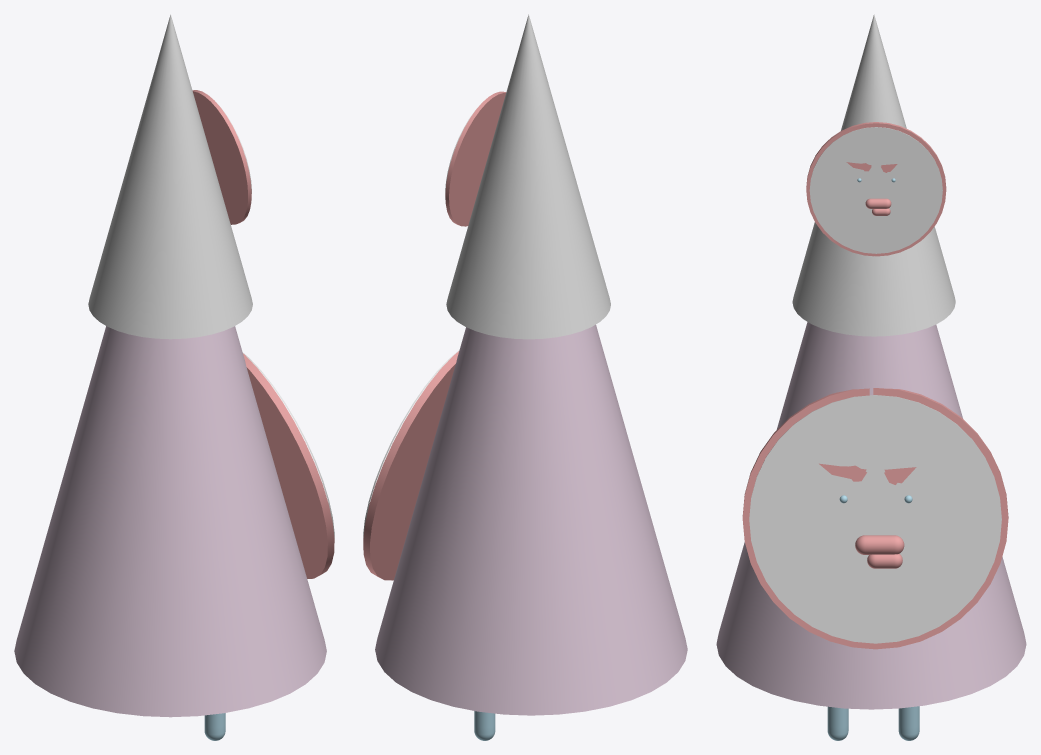
Rendered from avatar4.glb.
3 renders of one model, left to right at view 1: azimuth 30°, elevation 25°; view 2: azimuth 150°, elevation 25°; view 3: azimuth 270°, elevation 25°, orthographic.
Visible parts, largest first — view 1: Cone, head, Cylinder, leftleg; view 2: Cone, head, Cylinder, rightleg; view 3: Cylinder_1, Cone, head, Cylinder, Capsule_1, rightleg, leftleg.
Boxes of the visible parts, left/top/right/bottom form: Cone: left=14, top=326, right=326, bottom=717; head: left=88, top=14, right=252, bottom=339; Cylinder: left=243, top=353, right=334, bottom=578; leftleg: left=204, top=713, right=225, bottom=740; Cone: left=375, top=324, right=687, bottom=715; head: left=445, top=14, right=610, bottom=339; Cylinder: left=363, top=351, right=458, bottom=580; rightleg: left=474, top=711, right=495, bottom=740; Cylinder_1: left=749, top=395, right=1001, bottom=643; Cone: left=716, top=322, right=1026, bottom=709; head: left=792, top=14, right=955, bottom=336; Cylinder: left=742, top=388, right=1008, bottom=649; Capsule_1: left=855, top=535, right=904, bottom=554; rightleg: left=898, top=706, right=919, bottom=740; leftleg: left=827, top=706, right=848, bottom=740.
Size of the model in its own units: 2.33 by 5.91 by 2.33.
